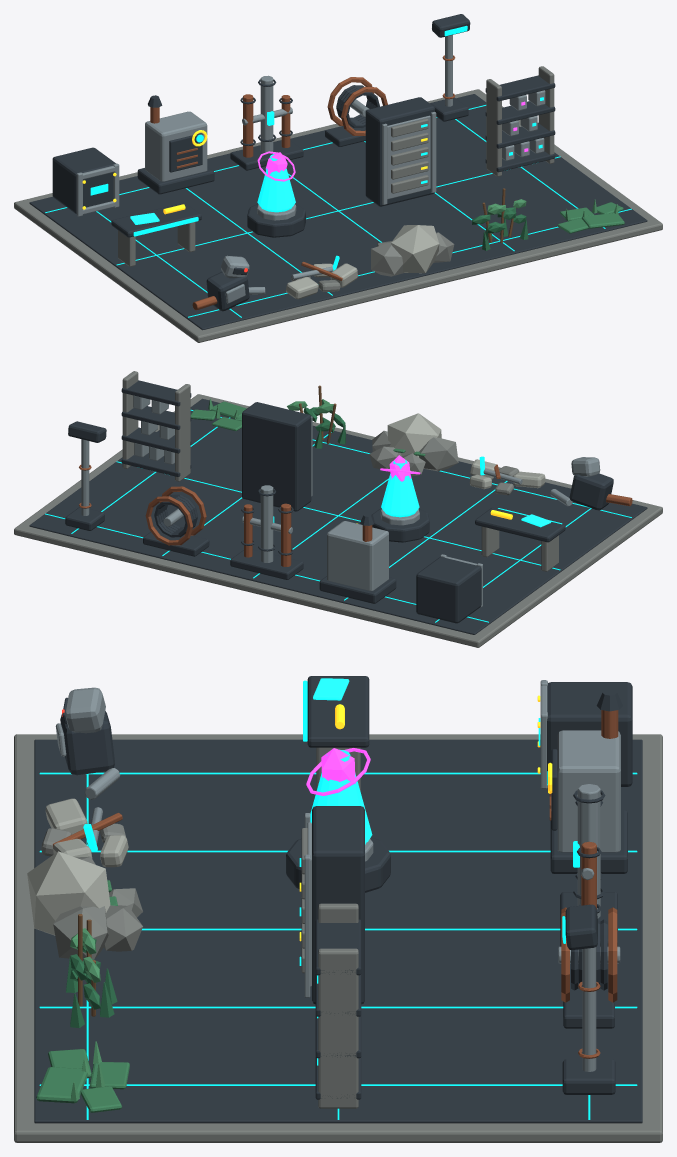
Rendered from Decorative_Props_Roster.glb.
3 views of the same model, one above another, from view 1: azimuth 30°, elevation 25°; view 2: azimuth 150°, elevation 25°; view 3: azimuth 270°, elevation 25° (orthographic). The views are drawn at different scales.
Parts seen in each view (by area): view 1: Decorative_Props_Display_Inset, Decorative_Props_Display_Floor, DataRack_Frame, Crate_Body, Machine_Body, Rock_1, DataRack_Recess, ArchiveShelf_Post, Holo_Base, Holo_LightCone, Workbench_Top, Machine_Base (+23 smaller); view 2: Decorative_Props_Display_Inset, Decorative_Props_Display_Floor, DataRack_Frame, Crate_Body, Machine_Body, Rock_1, Workbench_Top, ArchiveShelf_Post, BrokenRobot_Torso, Holo_LightCone, PipeCluster_Base, Holo_Base (+21 smaller); view 3: Decorative_Props_Display_Inset, Decorative_Props_Display_Floor, ArchiveShelf_Post.001, Machine_Body, DataRack_Frame, Crate_Body, Rock_1, Workbench_Top, BrokenRobot_Torso, Rock_2, Lamp_Base, PipeCluster_Pipe_1 (+27 smaller).
Boxes of the visible parts, x1=… form: Decorative_Props_Display_Inset: x1=29, y1=94, x2=647, y2=330; Decorative_Props_Display_Floor: x1=14, y1=89, x2=662, y2=342; DataRack_Frame: x1=365, y1=97, x2=434, y2=206; Crate_Body: x1=52, y1=147, x2=116, y2=213; Machine_Body: x1=145, y1=111, x2=207, y2=181; Rock_1: x1=391, y1=225, x2=439, y2=273; DataRack_Recess: x1=387, y1=115, x2=430, y2=199; ArchiveShelf_Post: x1=486, y1=79, x2=501, y2=176; Holo_Base: x1=247, y1=203, x2=305, y2=237; Holo_LightCone: x1=257, y1=154, x2=295, y2=210; Workbench_Top: x1=111, y1=202, x2=201, y2=237; Machine_Base: x1=137, y1=166, x2=214, y2=194; Decorative_Props_Display_Inset: x1=29, y1=398, x2=647, y2=634; Decorative_Props_Display_Floor: x1=14, y1=394, x2=662, y2=647; DataRack_Frame: x1=242, y1=402, x2=311, y2=511; Crate_Body: x1=416, y1=557, x2=481, y2=623; Machine_Body: x1=327, y1=521, x2=388, y2=591; Rock_1: x1=387, y1=413, x2=441, y2=457; Workbench_Top: x1=475, y1=507, x2=565, y2=542; ArchiveShelf_Post: x1=175, y1=384, x2=190, y2=481; BrokenRobot_Torso: x1=569, y1=473, x2=613, y2=510; Holo_LightCone: x1=381, y1=459, x2=419, y2=515; PipeCluster_Base: x1=230, y1=549, x2=303, y2=579; Holo_Base: x1=371, y1=508, x2=429, y2=542; Decorative_Props_Display_Inset: x1=34, y1=739, x2=642, y2=1123; Decorative_Props_Display_Floor: x1=14, y1=734, x2=662, y2=1142; ArchiveShelf_Post.001: x1=318, y1=948, x2=358, y2=1108; Machine_Body: x1=557, y1=730, x2=620, y2=852; DataRack_Frame: x1=312, y1=806, x2=364, y2=1004; Crate_Body: x1=547, y1=682, x2=632, y2=786; Rock_1: x1=27, y1=851, x2=110, y2=935; Workbench_Top: x1=307, y1=676, x2=369, y2=747; BrokenRobot_Torso: x1=60, y1=711, x2=114, y2=775; Rock_2: x1=53, y1=906, x2=108, y2=959; Lamp_Base: x1=562, y1=1059, x2=615, y2=1094; PipeCluster_Pipe_1: x1=577, y1=784, x2=600, y2=918.
Bounding box in the file's own units: 12.8 × 2.77 × 8.8.
